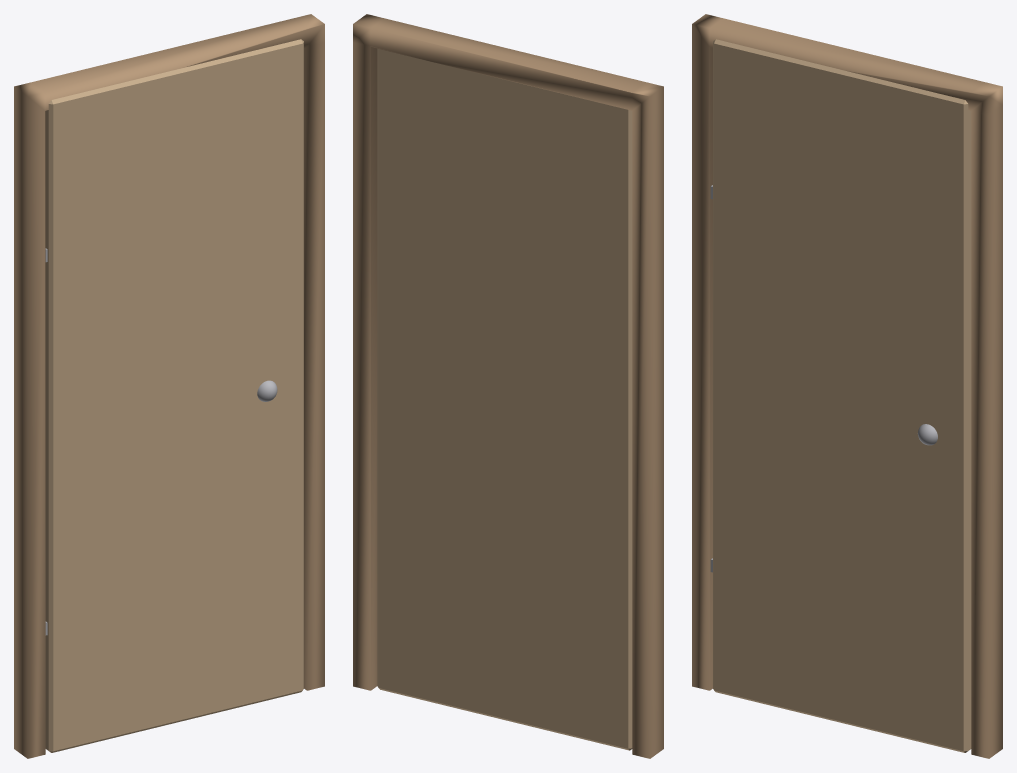
Rendered from door_interior.glb.
3 views of the same model, side by side, from view 1: azimuth 30°, elevation 25°; view 2: azimuth 150°, elevation 25°; view 3: azimuth 330°, elevation 25° (orthographic).
Visible parts, largest first — view 1: door_slab, merged_frame_wood; view 2: door_slab, merged_frame_wood; view 3: door_slab, merged_frame_wood.
Boxes of the visible parts, x1,y1,x2,y2 form: door_slab: (45, 39, 303, 752); merged_frame_wood: (14, 14, 324, 758); door_slab: (377, 48, 632, 750); merged_frame_wood: (353, 14, 663, 758); door_slab: (713, 39, 971, 752); merged_frame_wood: (692, 14, 1002, 758).
Bounding box in the file's own units: 1 × 2.13 × 0.115.
